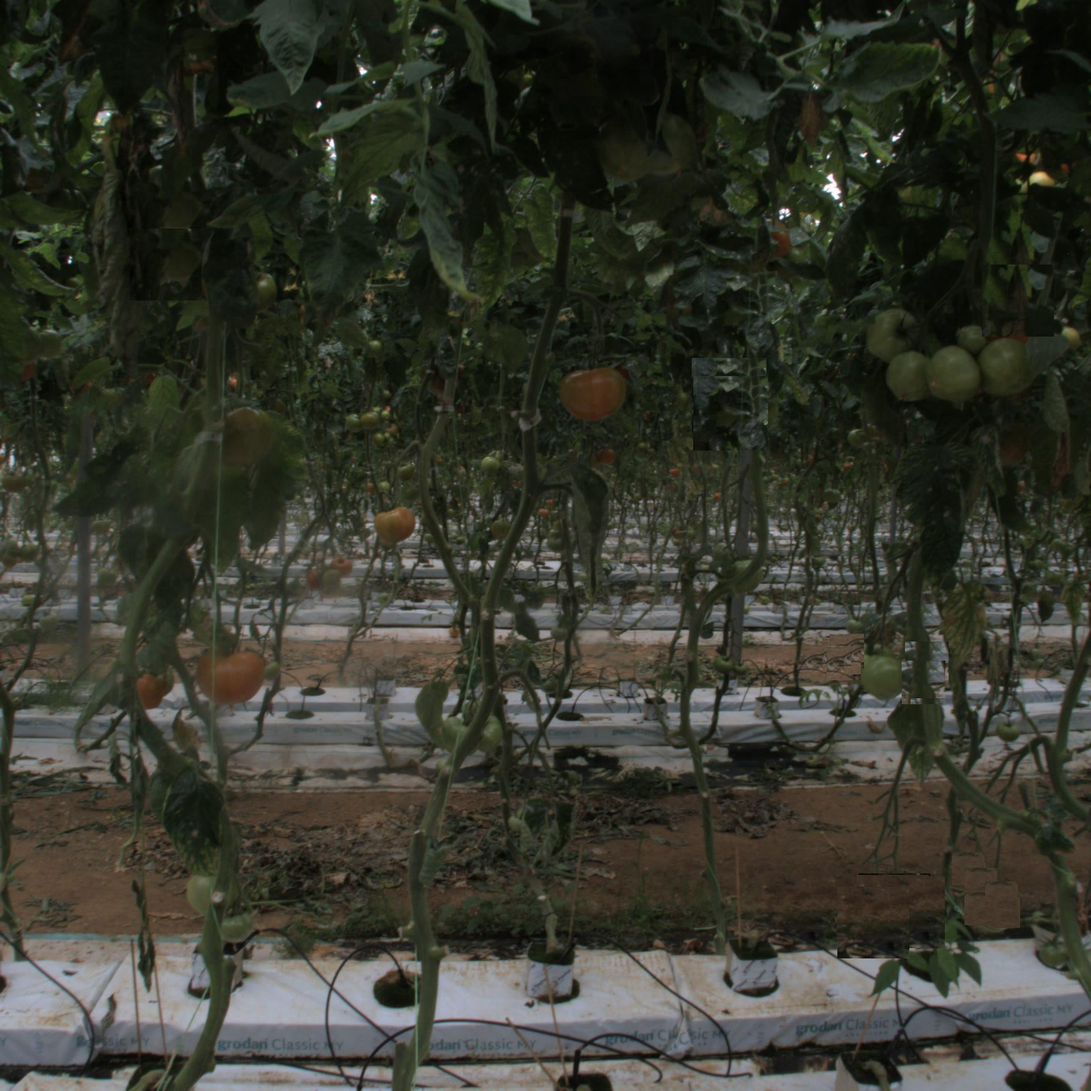['unripe', 'semi-ripe', 'fully-ripe']: (215, 404, 272, 461), (927, 347, 984, 404), (865, 308, 921, 365), (978, 341, 1034, 398), (859, 652, 909, 702), (885, 355, 933, 403)
